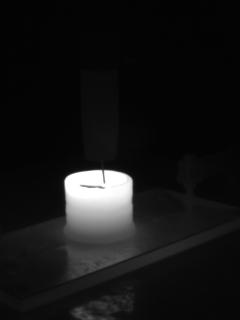tip_wire_left: (85, 156, 106, 187)
tip_wire_right: (103, 156, 117, 187)
